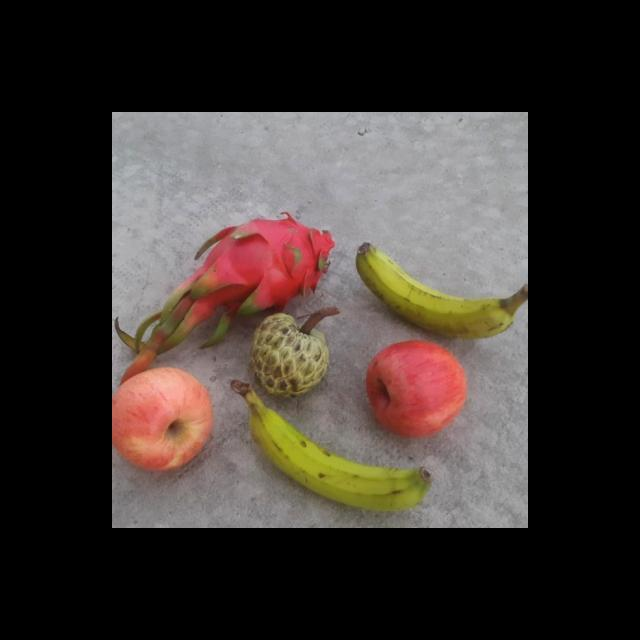Sakya fruit: (248, 310, 338, 402)
apple: (364, 340, 471, 440)
banana: (234, 392, 441, 516), (356, 242, 528, 341), (112, 366, 223, 476)
pitaya: (192, 210, 350, 326)
